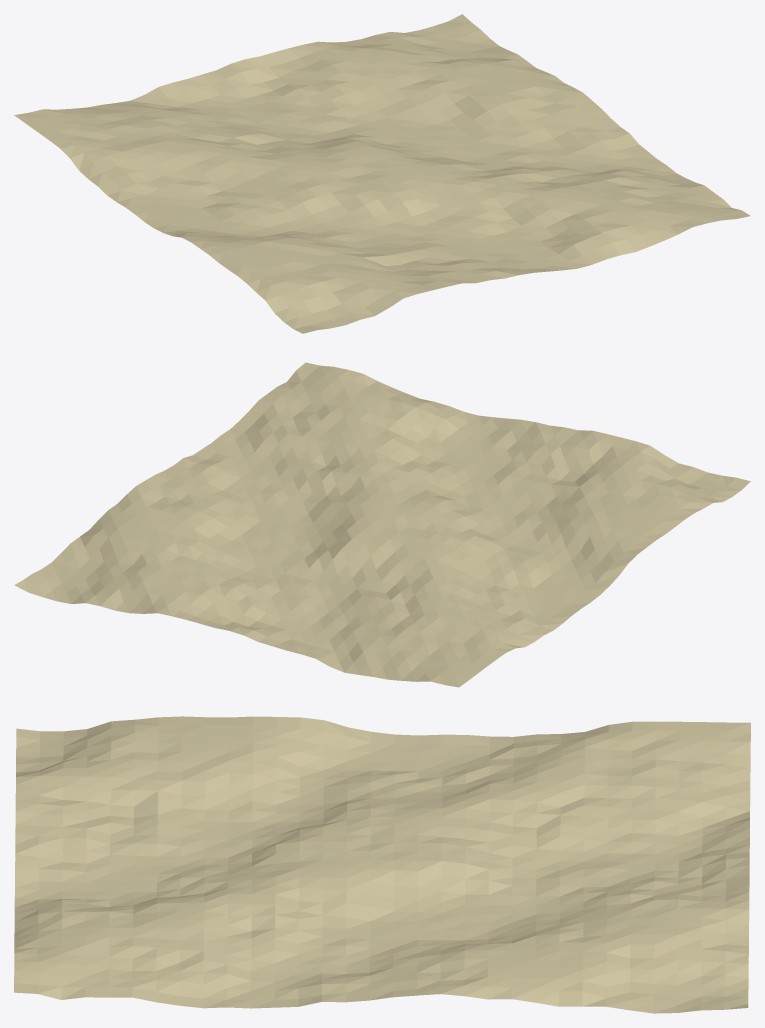
Rendered from sea.fbx.
3 views of the same model, one above another, from view 1: azimuth 30°, elevation 25°; view 2: azimuth 150°, elevation 25°; view 3: azimuth 270°, elevation 25° (orthographic). The views are drawn at different scales.
Parts seen in each view (by area): view 1: Plane; view 2: Plane; view 3: Plane.
Boxes of the visible parts, x1,y1,x2,y2 form: Plane: (14, 14, 750, 333); Plane: (14, 362, 750, 687); Plane: (14, 716, 750, 1013).
Bounding box in the file's own units: 4429 × 194 × 4978.
